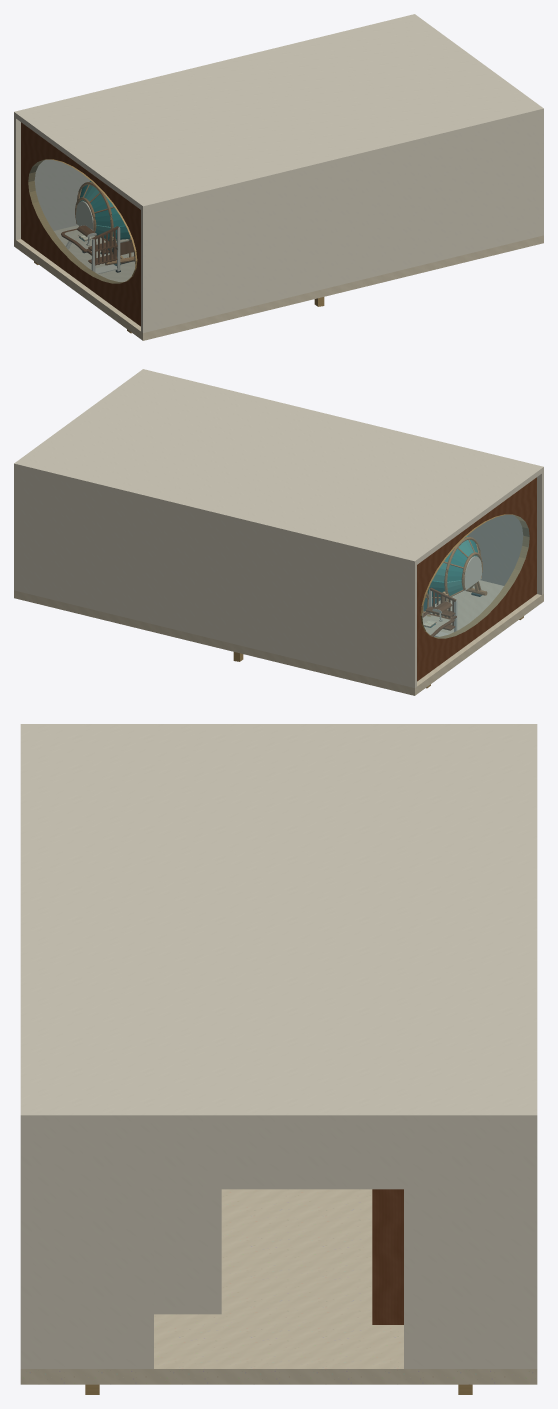
File: NightGardenD15Specialty_542_r001.glb
3 renders of one model, top to bottom at view 1: azimuth 30°, elevation 25°; view 2: azimuth 150°, elevation 25°; view 3: azimuth 270°, elevation 25°, orthographic. The views are drawn at different scales.
Parts seen in each view (by area): view 1: NG542_Ceiling, NG542_SouthSide, NG542_OvalAtriumGlass, NG542_RoomFloor, NG542_OvalWindowReveal, NG542_NorthSide, NG542_OvalDepthReturn; view 2: NG542_Ceiling, NG542_NorthSide, NG542_OvalAtriumGlass, NG542_RoomFloor, NG542_OvalWindowReveal, NG542_SouthSide, NG542_OvalDepthReturn, NG542_ReservedRestSupport_02__Rear ivory acoustic diffuser; view 3: NG542_Ceiling, NG542_RoomFloor, NG542_EntryShoulderNorth, NG542_EntryShoulderSouth, NG542_EntryHeader, NG542_WashEntrySide, NG542_EntryPrivacyDogleg, NG542_NorthSide, NG542_SouthSide.
Part boxes in pixels (bbox=[...]): NG542_Ceiling: bbox=[14, 14, 543, 211]; NG542_SouthSide: bbox=[141, 114, 543, 332]; NG542_OvalAtriumGlass: bbox=[28, 160, 135, 283]; NG542_RoomFloor: bbox=[14, 225, 543, 340]; NG542_OvalWindowReveal: bbox=[21, 122, 140, 326]; NG542_NorthSide: bbox=[14, 117, 90, 239]; NG542_OvalDepthReturn: bbox=[28, 159, 137, 283]; NG542_Ceiling: bbox=[14, 369, 543, 566]; NG542_NorthSide: bbox=[14, 469, 416, 687]; NG542_OvalAtriumGlass: bbox=[422, 515, 529, 638]; NG542_RoomFloor: bbox=[14, 580, 543, 695]; NG542_OvalWindowReveal: bbox=[417, 477, 536, 681]; NG542_SouthSide: bbox=[467, 472, 543, 594]; NG542_OvalDepthReturn: bbox=[420, 514, 529, 638]; NG542_ReservedRestSupport_02__Rear ivory acoustic diffuser: bbox=[464, 556, 481, 590]; NG542_Ceiling: bbox=[20, 724, 537, 1125]; NG542_RoomFloor: bbox=[20, 1189, 537, 1384]; NG542_EntryShoulderNorth: bbox=[404, 1125, 528, 1368]; NG542_EntryShoulderSouth: bbox=[29, 1125, 153, 1368]; NG542_EntryHeader: bbox=[150, 1125, 407, 1189]; NG542_WashEntrySide: bbox=[154, 1189, 221, 1314]; NG542_EntryPrivacyDogleg: bbox=[372, 1189, 403, 1324]; NG542_NorthSide: bbox=[528, 1125, 537, 1368]; NG542_SouthSide: bbox=[20, 1125, 29, 1368].
Bounding box in the file's own units: 12.9 × 4.91 × 7.2.
Materials: 67 (43 with a texture image).
